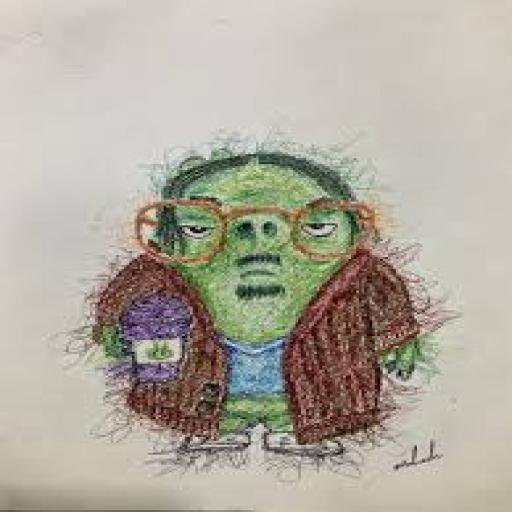person: (72, 127, 438, 490)
